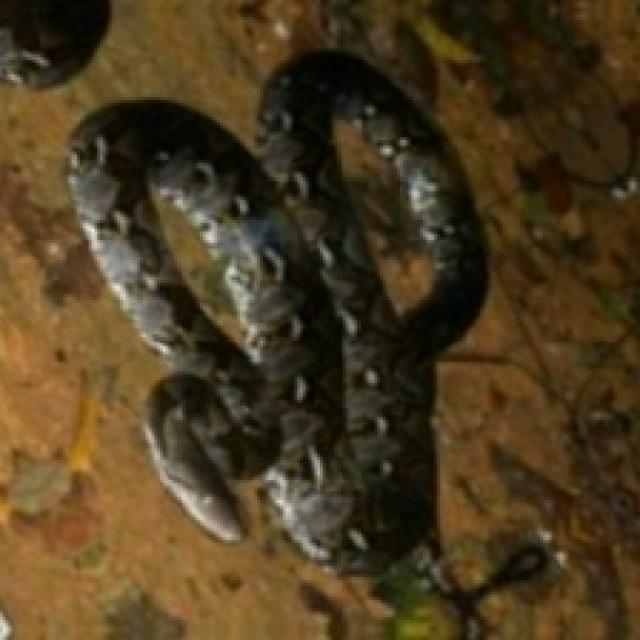reticulated python: (69, 51, 514, 629)
